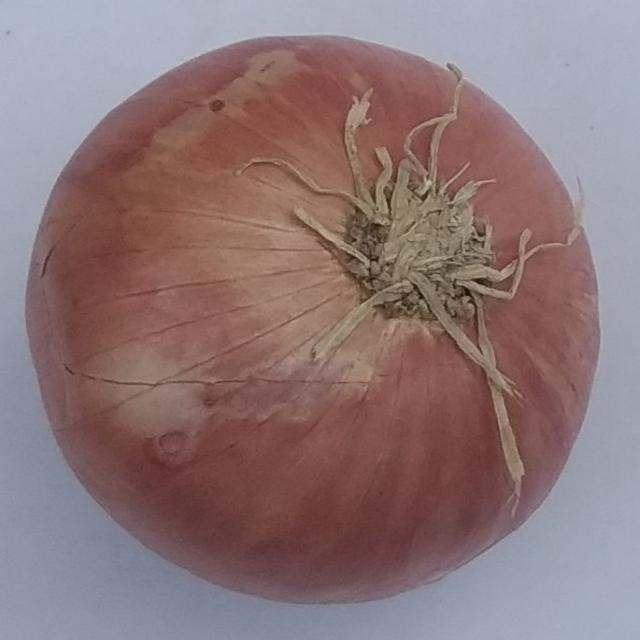onion: (22, 32, 602, 606)
